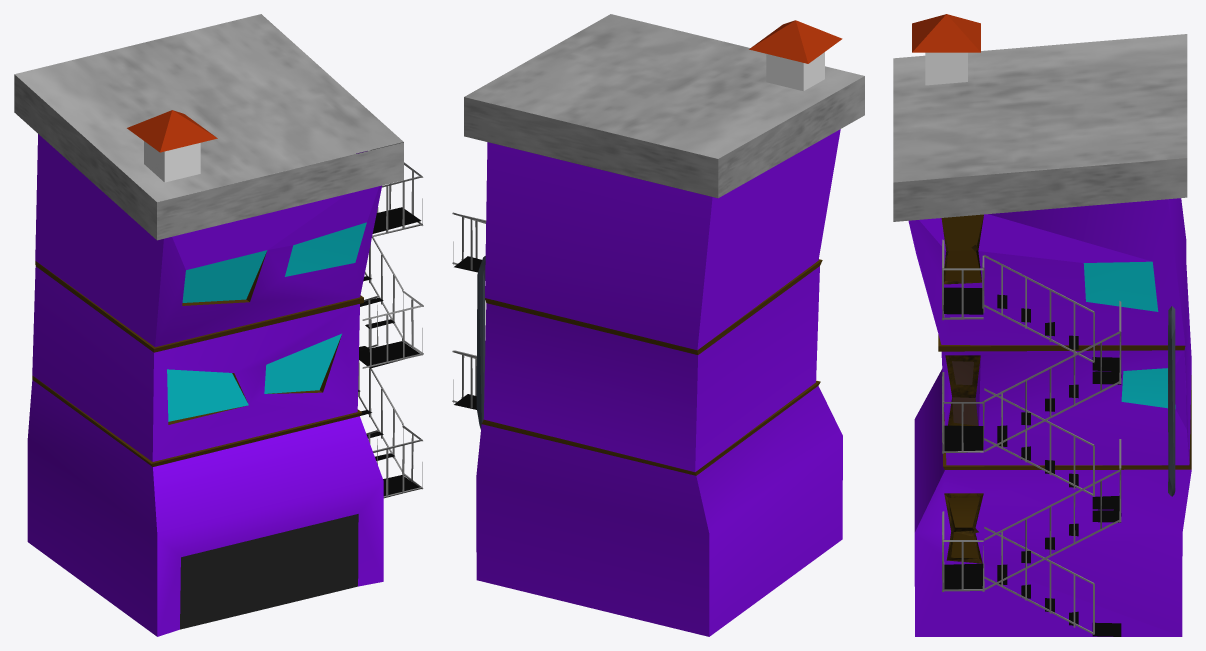
File: PredioTorto-RoxoLOD1.fbx
3 renders of one model, left to right at view 1: azimuth 30°, elevation 25°; view 2: azimuth 150°, elevation 25°; view 3: azimuth 270°, elevation 25°, orthographic. The views are drawn at different scales.
Parts seen in each view (by area): view 1: Predio3AndaresLOD1; view 2: Predio3AndaresLOD1; view 3: Predio3AndaresLOD1.
Boxes of the visible parts, bbox=[...] form: Predio3AndaresLOD1: bbox=[14, 14, 423, 636]; Predio3AndaresLOD1: bbox=[452, 14, 864, 636]; Predio3AndaresLOD1: bbox=[893, 14, 1191, 636].
Size of the model in its own units: 1035 by 1727 by 892.
